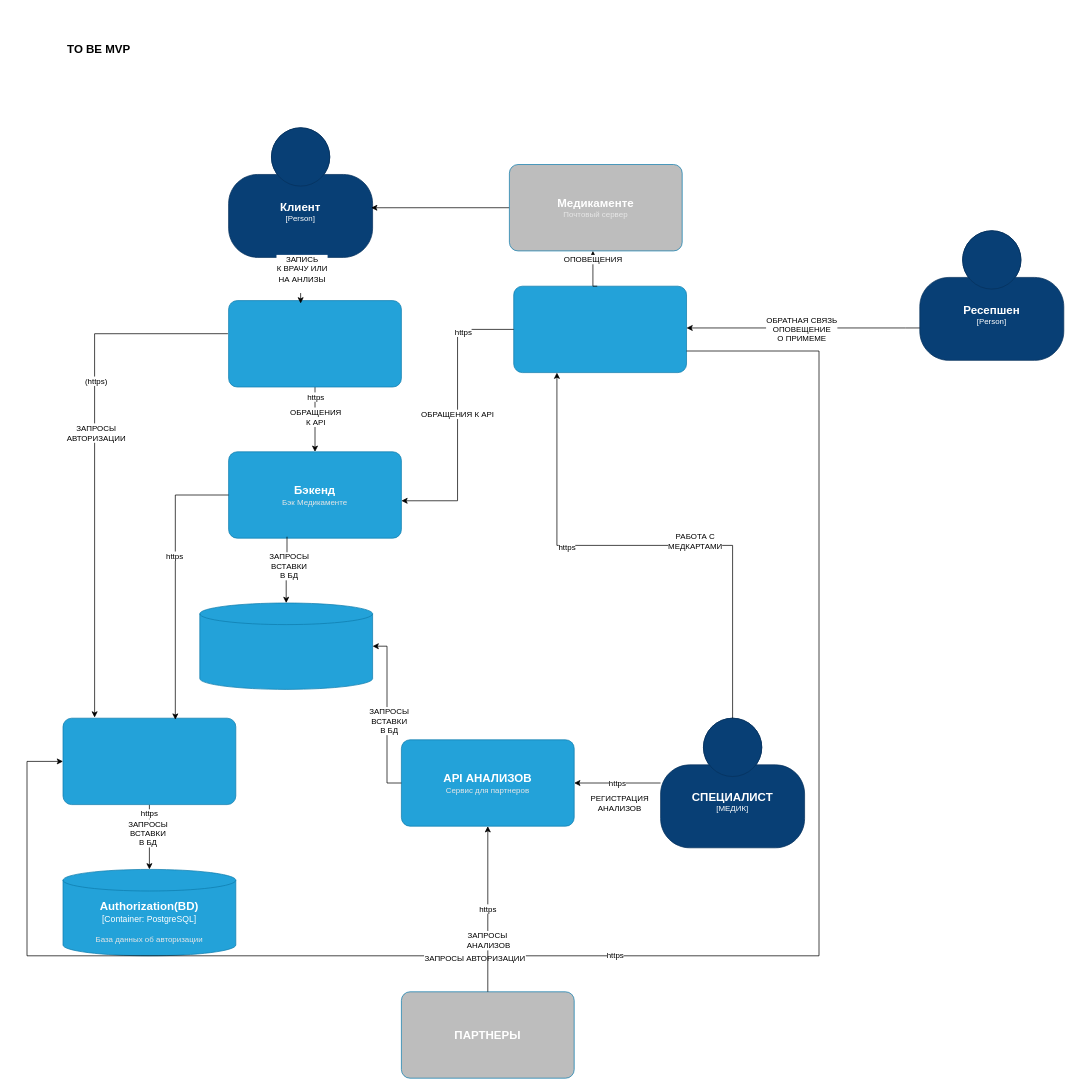
This 1076x1091 diagram has some shape labels left out. The centre of each missing label's shape, as x and y in pixels:
"Authorization Сервис авторизации" belongs at [149,761].
"MEDICAMENTE DB [Container: PostgreSQL] База данных" belongs at [286,645].
"ЛИЧНЫЙ КАБИНЕТ ЗАПИСЬ НА ПРИЕМ" belongs at [314,343].
"ПОРТАЛ Портал Медикаменте" belongs at [600,329].
